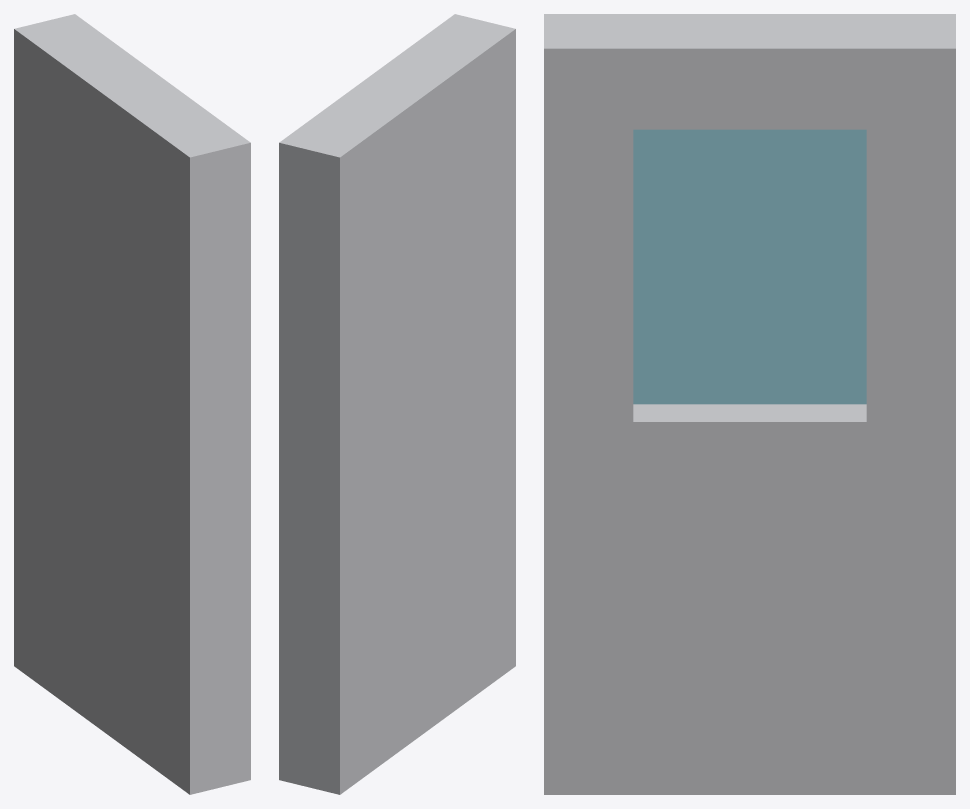
Rendered from detail_003.dae.
3 renders of one model, left to right at view 1: azimuth 30°, elevation 25°; view 2: azimuth 150°, elevation 25°; view 3: azimuth 270°, elevation 25°, orthographic. The views are drawn at different scales.
Visible parts, largest first — view 1: detail_003; view 2: detail_003; view 3: detail_003.
Boxes of the visible parts, x1,y1,x2,y2 form: detail_003: [14, 14, 250, 794]; detail_003: [279, 14, 515, 794]; detail_003: [544, 14, 955, 794].
Size of the model in its own units: 0.05 by 0.5 by 0.25.
